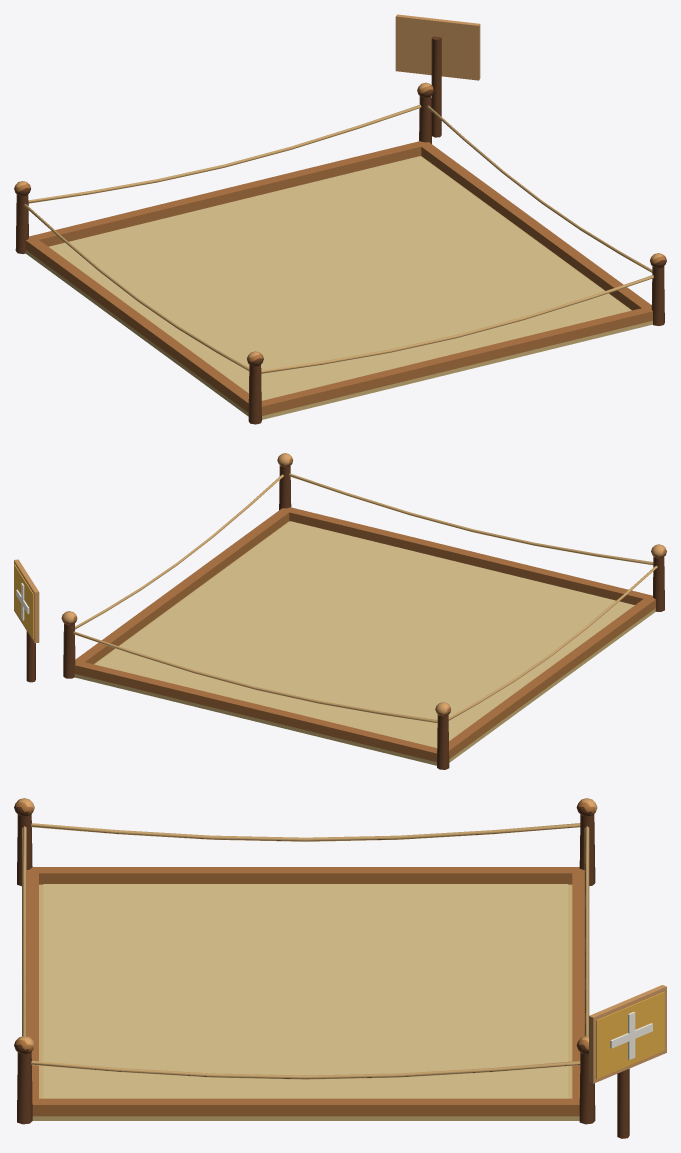
The model's file is build_plot_big.obj.
3 renders of one model, top to bottom at view 1: azimuth 30°, elevation 25°; view 2: azimuth 150°, elevation 25°; view 3: azimuth 270°, elevation 25°, orthographic. The views are drawn at different scales.
Visible parts, largest first — view 1: build_plot_big_sand_wet, build_plot_big_wood_mid, build_plot_big_rope, build_plot_big_wood_light, build_plot_big_wood_dark, build_plot_big_sand_dark; view 2: build_plot_big_sand_wet, build_plot_big_wood_mid, build_plot_big_rope, build_plot_big_wood_dark, build_plot_big_sand_dark, build_plot_big_wood_light, build_plot_big_gold; view 3: build_plot_big_sand_wet, build_plot_big_wood_mid, build_plot_big_rope, build_plot_big_sand_dark, build_plot_big_wood_dark, build_plot_big_gold, build_plot_big_wood_light, build_plot_big_cloth.
Part boxes in pixels (x1=…): build_plot_big_sand_wet: x1=49, y1=156, x2=630, y2=400; build_plot_big_wood_mid: x1=14, y1=84, x2=665, y2=415; build_plot_big_rope: x1=24, y1=104, x2=653, y2=373; build_plot_big_wood_light: x1=15, y1=14, x2=662, y2=357; build_plot_big_wood_dark: x1=15, y1=36, x2=666, y2=424; build_plot_big_sand_dark: x1=25, y1=156, x2=652, y2=419; build_plot_big_sand_wet: x1=95, y1=521, x2=634, y2=747; build_plot_big_wood_mid: x1=61, y1=456, x2=666, y2=761; build_plot_big_rope: x1=73, y1=473, x2=657, y2=723; build_plot_big_wood_dark: x1=26, y1=461, x2=666, y2=769; build_plot_big_sand_dark: x1=74, y1=521, x2=655, y2=765; build_plot_big_wood_light: x1=14, y1=453, x2=665, y2=714; build_plot_big_gold: x1=14, y1=564, x2=33, y2=638; build_plot_big_sand_wet: x1=43, y1=884, x2=568, y2=1098; build_plot_big_wood_mid: x1=15, y1=799, x2=596, y2=1116; build_plot_big_rope: x1=22, y1=823, x2=589, y2=1079; build_plot_big_sand_dark: x1=32, y1=884, x2=579, y2=1120; build_plot_big_wood_dark: x1=14, y1=803, x2=629, y2=1138; build_plot_big_gold: x1=596, y1=992, x2=664, y2=1078; build_plot_big_wood_light: x1=19, y1=798, x2=666, y2=1083; build_plot_big_cloth: x1=610, y1=1012, x2=652, y2=1059.
Bounding box in the file's own units: 6.27 × 1.45 × 6.27.
